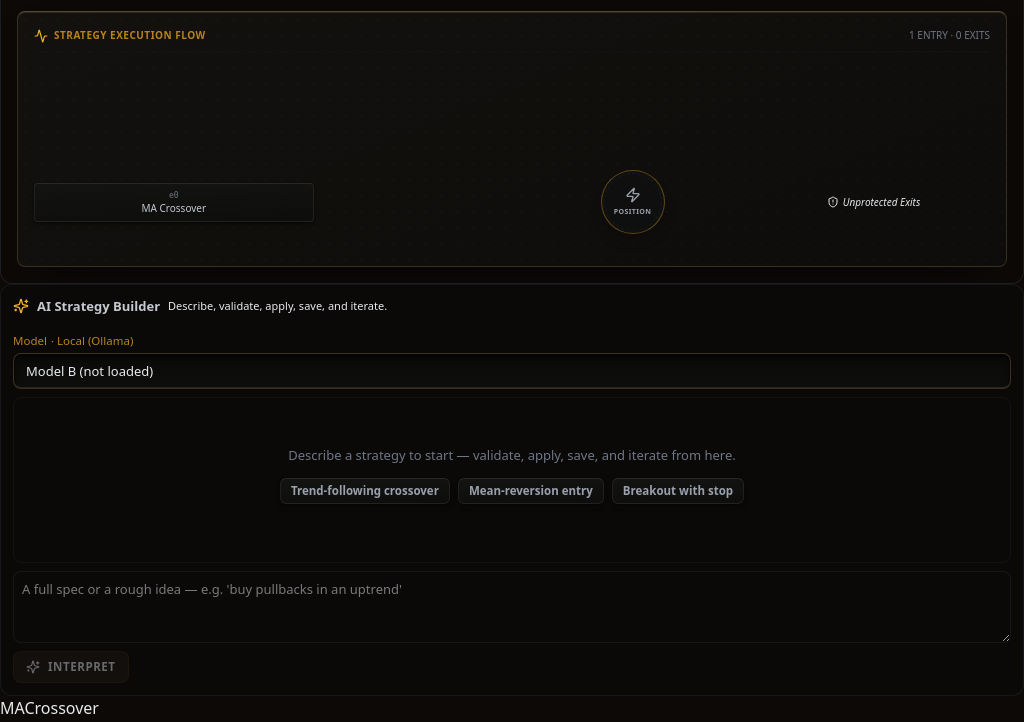
Scenario: AiStrategyPanel in StrategyStudio › renders assumptions and unsupported requests
(page scrolled)
Expected: the element with test id "ai-strategy-panel" is shown, [0,284,1023,696]
In the text box with test id "ai-strategy-message": [512, 607] box [13,571,1011,643], type "Build supertrend for live trading"
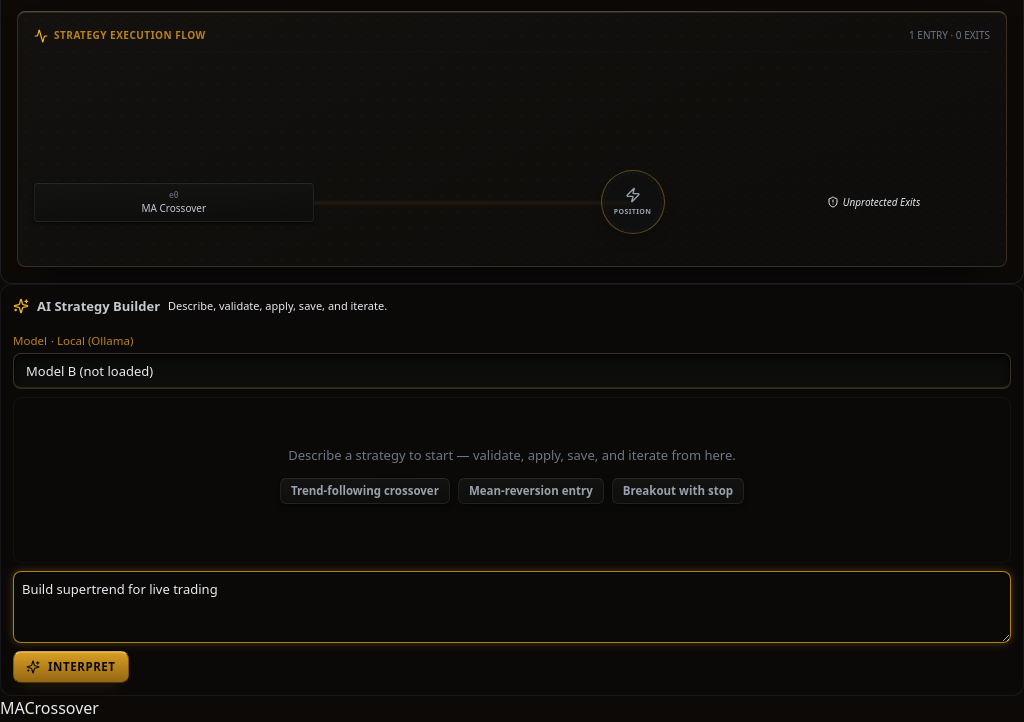
Click the button with test id "ai-strategy-submit": [71, 667] box [13,651,129,683]
(page scrolled)
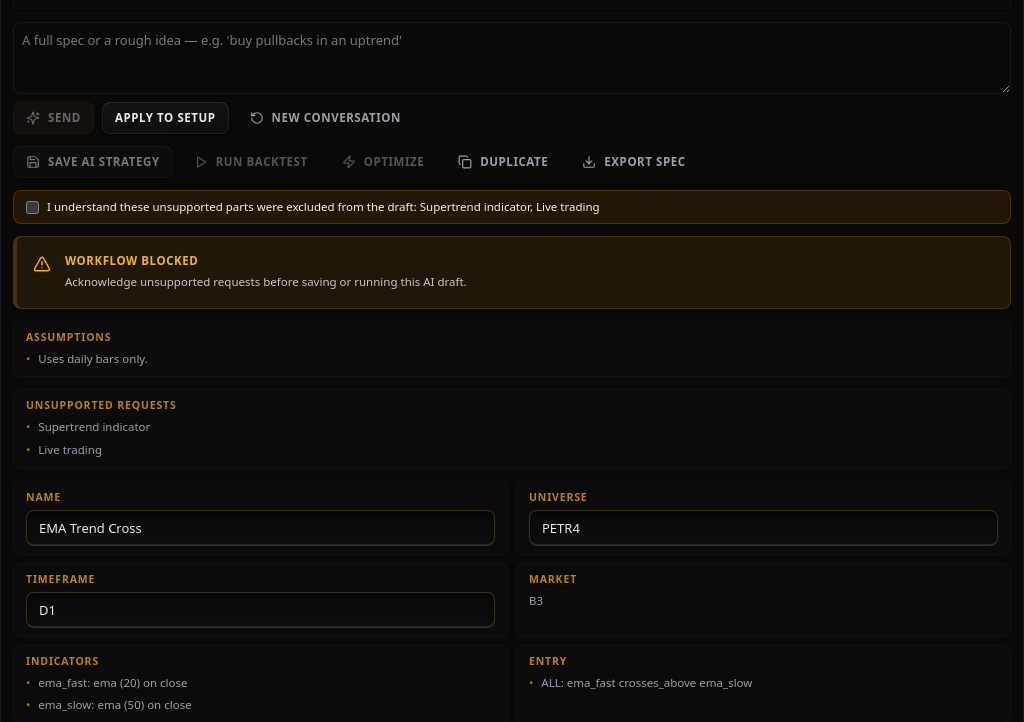
Result: the list with test id "ai-strategy-assumptions" is shown at [26,350,148,366]
Result: the list with test id "ai-strategy-unsupported" is shown at [26,419,150,457]
Result: the text "Uses daily bars only." is shown at [38,350,148,368]
